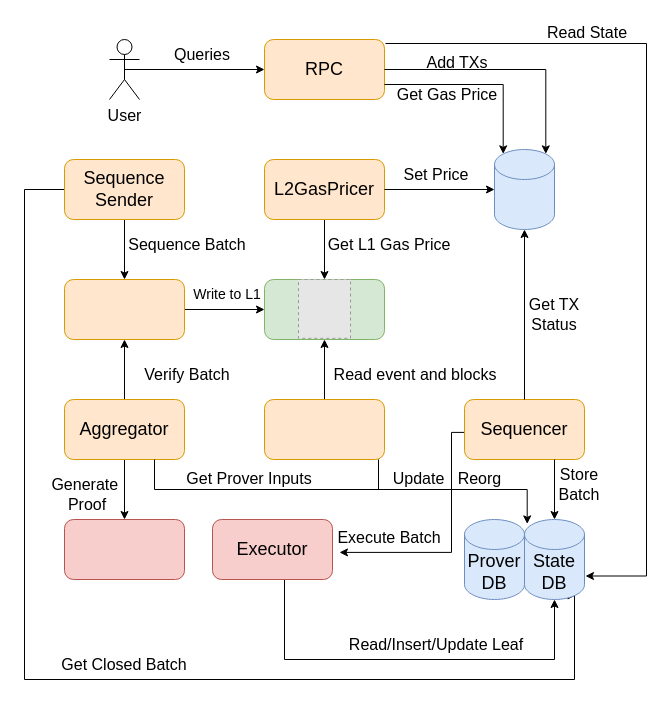
Image size: 672x705. Some labels were removed from this diagram. Grey dashed boxes stand in for pictures. The shapes that lost their labels are listed below. From the top down, each one's box as (x1, y1, x2, y2) in pixels, then its label:
(494, 148, 554, 230): Pool DB
(64, 278, 184, 340): EthTxManager
(264, 398, 384, 460): Synchronizer
(64, 518, 184, 580): Prover
